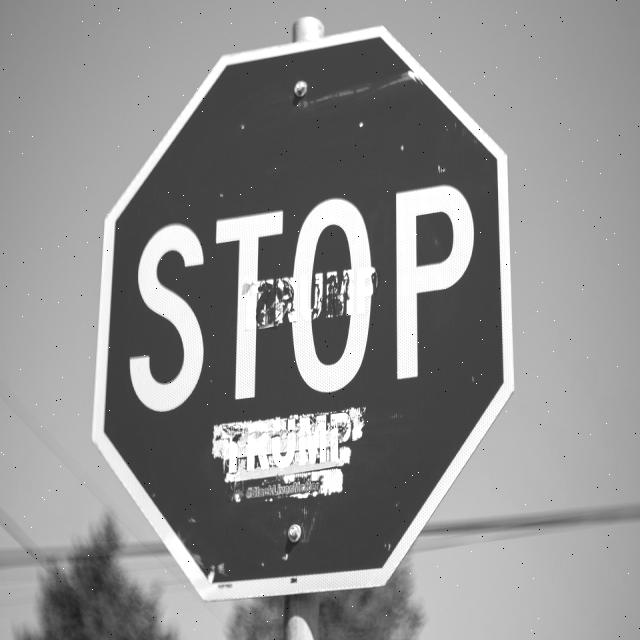Stop-sign: (87, 15, 527, 611)
